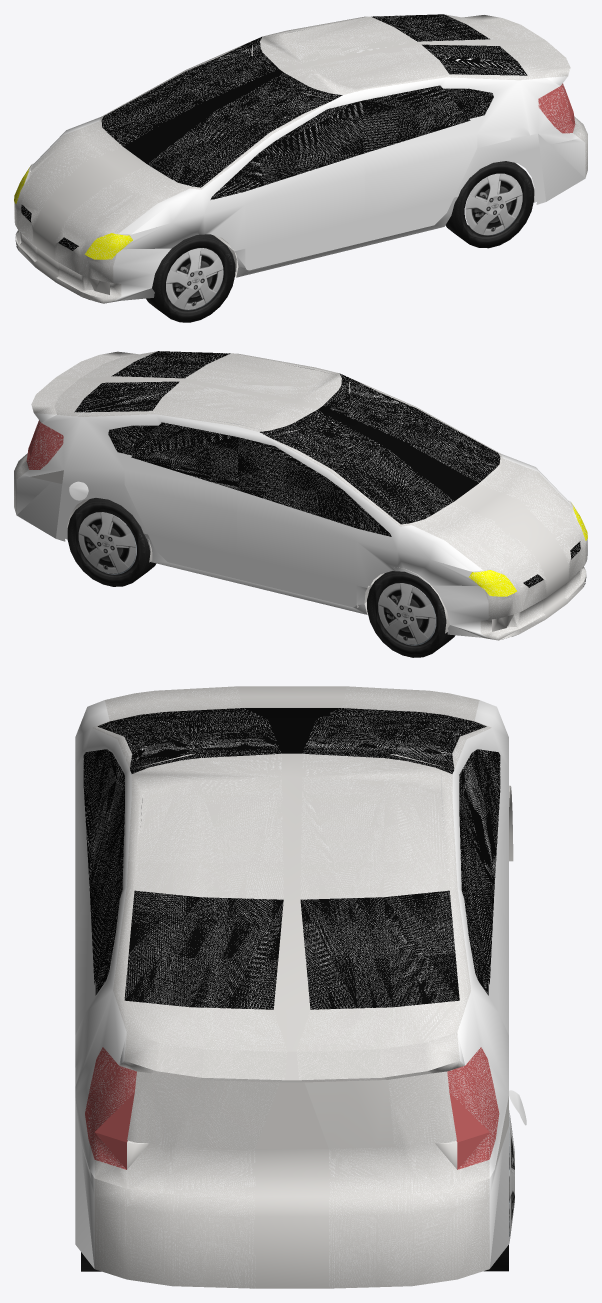
Rendered from prius.dae.
3 renders of one model, top to bottom at view 1: azimuth 30°, elevation 25°; view 2: azimuth 150°, elevation 25°; view 3: azimuth 270°, elevation 25°, orthographic. The views are drawn at different scales.
Visible parts, largest first — view 1: SketchUp (×18), group_9, group_4, group_11, Group_11, group_0, group_15, group_21, group_13, group_19, group_10, group_18; view 2: SketchUp (×18), group_3, group_2, group_15 (×2), group_6, group_17, group_7, group_16, group_19, group_5; view 3: SketchUp (×23), group_19 (×5), group_6, group_11, group_4, group_2, group_9, group_3.
Part boxes in pixels (<box>): SketchUp (×18): <box>14,14,581,303</box>; group_9: <box>243,154,364,248</box>; group_4: <box>363,120,477,219</box>; group_11: <box>363,85,470,153</box>; Group_11: <box>146,234,235,322</box>; group_0: <box>245,219,366,270</box>; group_15: <box>465,173,522,235</box>; group_21: <box>166,248,223,309</box>; group_13: <box>445,161,533,248</box>; group_19: <box>539,138,585,201</box>; group_10: <box>365,198,453,241</box>; group_18: <box>513,147,545,204</box>; SketchUp (×18): <box>20,351,587,640</box>; group_3: <box>237,490,358,585</box>; group_2: <box>124,457,238,556</box>; group_15 (×2): <box>78,512,435,644</box>; group_6: <box>131,422,238,490</box>; group_17: <box>67,498,156,586</box>; group_7: <box>234,556,356,607</box>; group_16: <box>367,571,455,657</box>; group_19: <box>16,475,62,538</box>; group_5: <box>148,534,236,578</box>; SketchUp (×23): <box>75,686,508,1196</box>; group_19 (×5): <box>75,1126,508,1288</box>; group_6: <box>459,811,494,984</box>; group_11: <box>90,811,124,984</box>; group_4: <box>75,891,94,1034</box>; group_2: <box>490,891,508,1034</box>; group_9: <box>75,788,89,925</box>; group_3: <box>494,788,508,925</box>.
Size of the model in its own units: 321 by 123 by 107.
9 materials, 3 textured.
